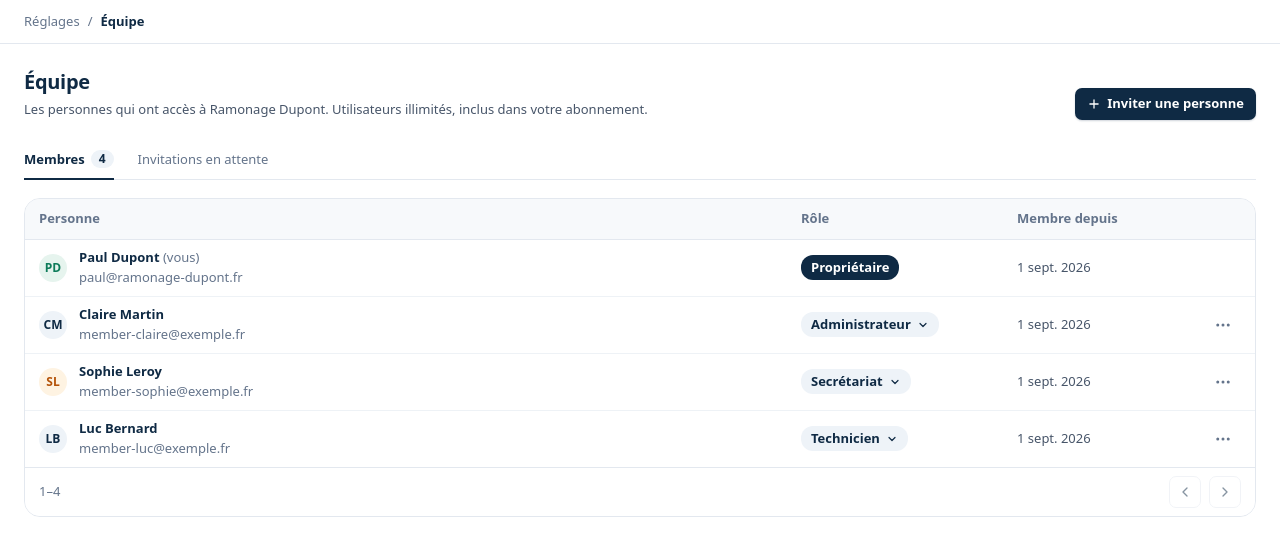
Test: TeamScreen pending tab › shows a skeleton shaped like the invitation rows while the pending invitations load
What coordinates should you click on to do the following:
click the tab "Invitations en attente"
I would click on:
 (203, 160)
Its box is [138, 140, 268, 180].
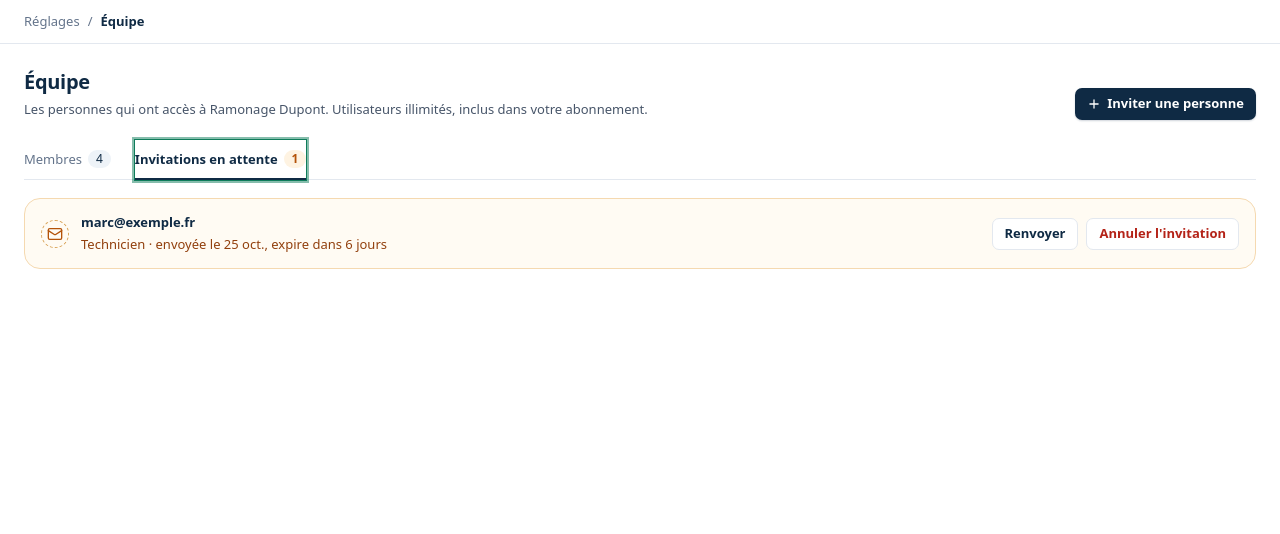
Result: the text "marc@exemple.fr" is shown at [81, 213, 195, 231]
